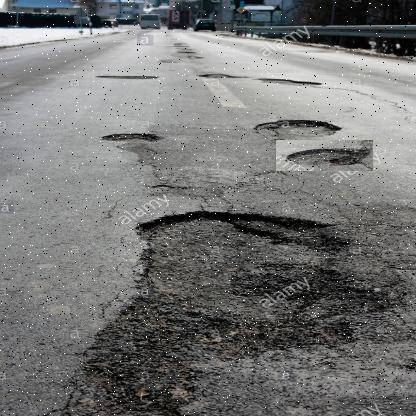damage: (78, 207, 386, 411)
pothole: (276, 140, 374, 172), (238, 114, 352, 140), (97, 123, 164, 149)
